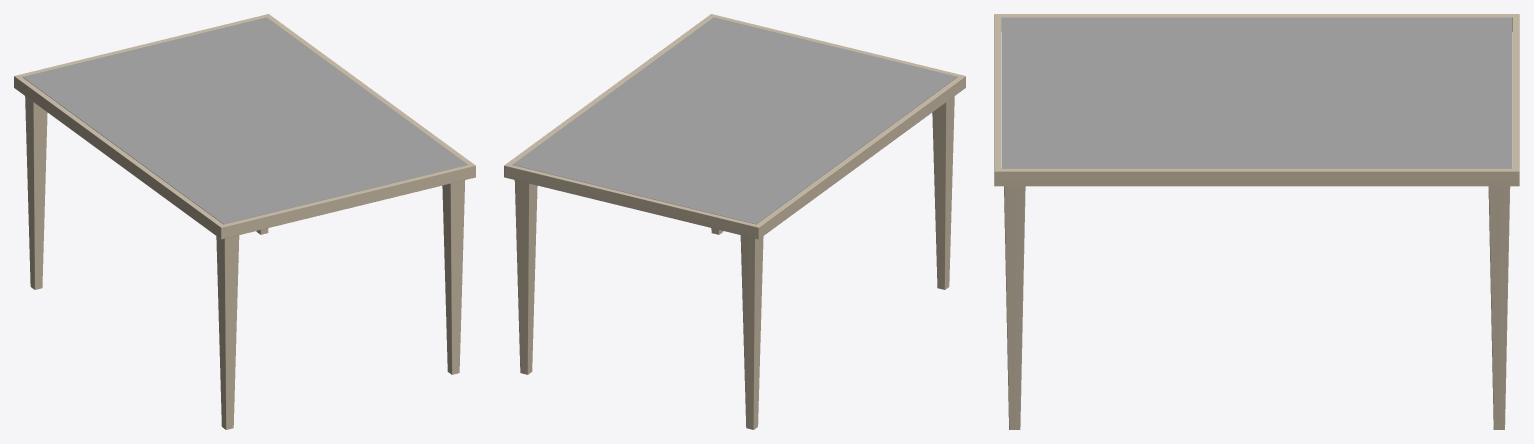
File: smoking_coffeeTable.fbx
3 views of the same model, side by side, from view 1: azimuth 30°, elevation 25°; view 2: azimuth 150°, elevation 25°; view 3: azimuth 270°, elevation 25° (orthographic). The views are drawn at different scales.
Parts seen in each view (by area): view 1: polySurface105; view 2: polySurface105; view 3: polySurface105.
Boxes of the visible parts, x1,y1,x2,y2 form: polySurface105: (14, 14, 475, 429); polySurface105: (504, 14, 965, 429); polySurface105: (994, 14, 1519, 429).
Bounding box in the file's own units: 17.07 × 13.39 × 24.04.
